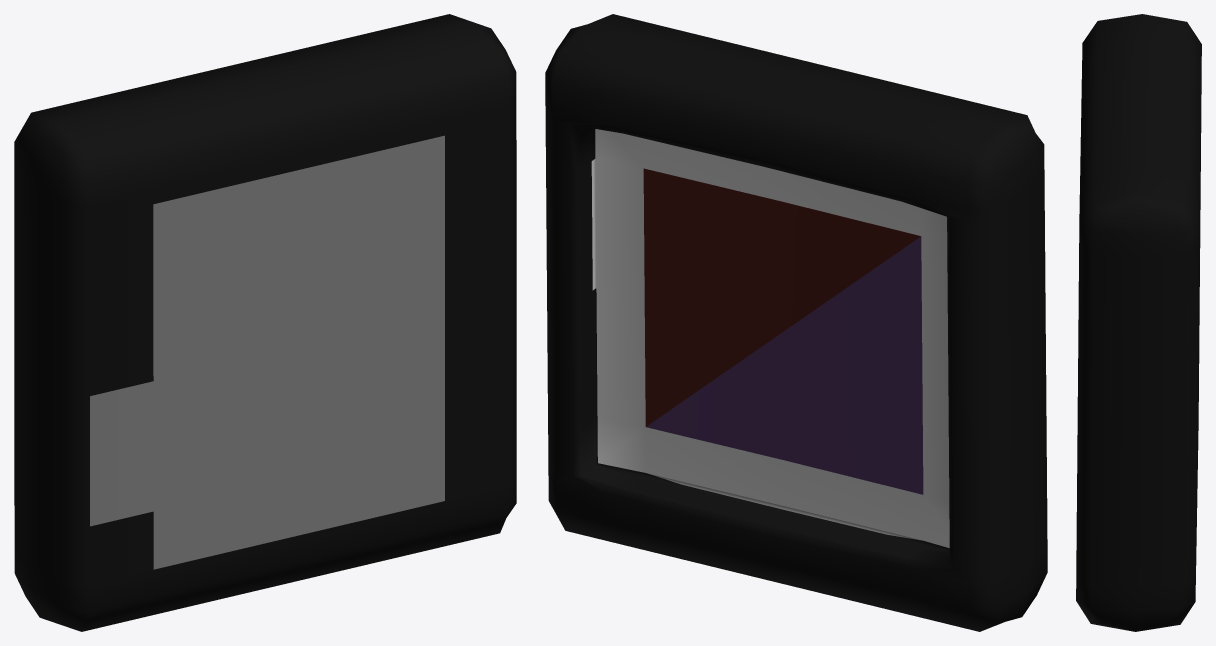
File: painting3.obj
The picture shows the model from 3 angles, left to right: view 1: azimuth 30°, elevation 25°; view 2: azimuth 150°, elevation 25°; view 3: azimuth 270°, elevation 25°; orthographic projection. The views are drawn at different scales.
Visible parts, largest first — view 1: pCube49; view 2: pCube49; view 3: pCube49.
Boxes of the visible parts, x1,y1,x2,y2 form: pCube49: (14,14,516,631); pCube49: (545,14,1047,631); pCube49: (1076,14,1201,631).
Bounding box in the file's own units: 10.7 × 11.04 × 2.86.
